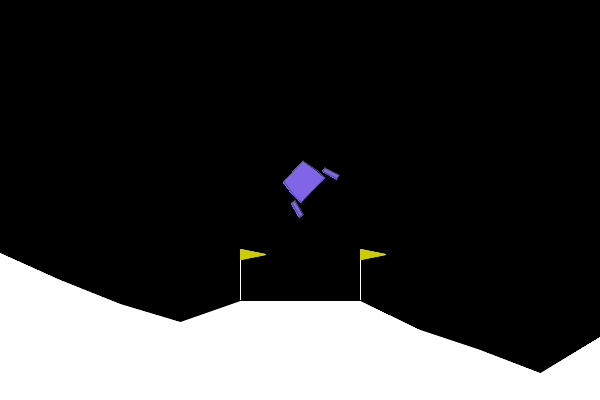lander: (271, 149, 341, 220)
